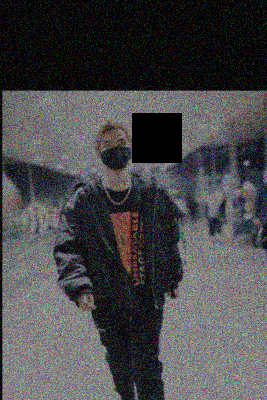with_mask: (100, 136, 132, 170)
